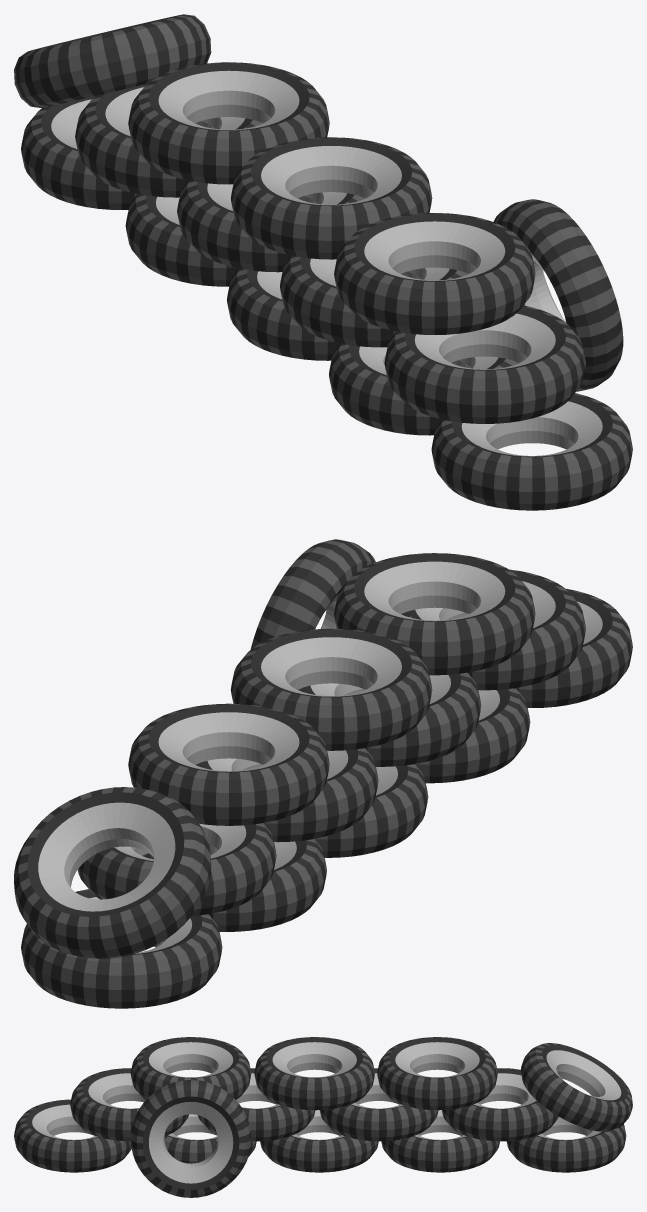
Rendered from tire barrier straight.fbx.
The picture shows the model from 3 angles, top to bottom: view 1: azimuth 30°, elevation 25°; view 2: azimuth 150°, elevation 25°; view 3: azimuth 270°, elevation 25°; orthographic projection. The views are drawn at different scales.
Visible parts, largest first — view 1: Torus.011, Torus.010, Torus.009, Torus.005, Torus.004, Torus.013, Torus.012, Torus.008, Torus.002, Torus.003, Torus.006, Torus.007 (+2 smaller); view 2: Torus.013, Torus.009, Torus.011, Torus.010, Torus.002, Torus.008, Torus.005, Torus.012, Torus.004, Torus.006, Torus.007, Torus.001 (+2 smaller); view 3: Torus.012, Torus.009, Torus.010, Torus.013, Torus.004, Torus.011, Torus.008, Torus.002, Torus.005, Torus.007, Torus, Torus.001 (+2 smaller).
Part boxes in pixels (left/top/right/bottom): Torus.011: left=334, top=213, right=535, bottom=334; Torus.010: left=230, top=137, right=432, bottom=259; Torus.009: left=128, top=62, right=329, bottom=184; Torus.005: left=384, top=305, right=585, bottom=423; Torus.004: left=431, top=393, right=632, bottom=510; Torus.013: left=14, top=14, right=211, bottom=107; Torus.012: left=493, top=199, right=623, bottom=391; Torus.008: left=75, top=83, right=262, bottom=197; Torus.002: left=21, top=96, right=137, bottom=209; Torus.003: left=329, top=343, right=518, bottom=435; Torus.006: left=280, top=255, right=468, bottom=347; Torus.007: left=177, top=180, right=365, bottom=272; Torus.013: left=14, top=787, right=211, bottom=958; Torus.009: left=128, top=703, right=329, bottom=825; Torus.011: left=334, top=553, right=535, bottom=675; Torus.010: left=230, top=628, right=432, bottom=750; Torus.002: left=21, top=889, right=222, bottom=1008; Torus.008: left=78, top=823, right=276, bottom=915; Torus.005: left=401, top=569, right=585, bottom=690; Torus.012: left=250, top=539, right=375, bottom=649; Torus.004: left=516, top=588, right=632, bottom=707; Torus.006: left=297, top=672, right=481, bottom=766; Torus.007: left=195, top=748, right=378, bottom=842; Torus.001: left=142, top=839, right=326, bottom=931; Torus.012: left=130, top=1080, right=251, bottom=1197; Torus.009: left=377, top=1037, right=497, bottom=1110; Torus.010: left=254, top=1037, right=374, bottom=1110; Torus.013: left=521, top=1043, right=632, bottom=1131; Torus.004: left=14, top=1099, right=131, bottom=1172; Torus.011: left=130, top=1037, right=251, bottom=1099; Torus.008: left=442, top=1068, right=558, bottom=1141; Torus.002: left=506, top=1117, right=626, bottom=1172; Torus.005: left=70, top=1068, right=188, bottom=1141; Torus.007: left=319, top=1068, right=438, bottom=1141; Torus: left=260, top=1110, right=378, bottom=1172; Torus.001: left=381, top=1110, right=499, bottom=1172.
Size of the model in its own units: 350 by 246 by 1282.
